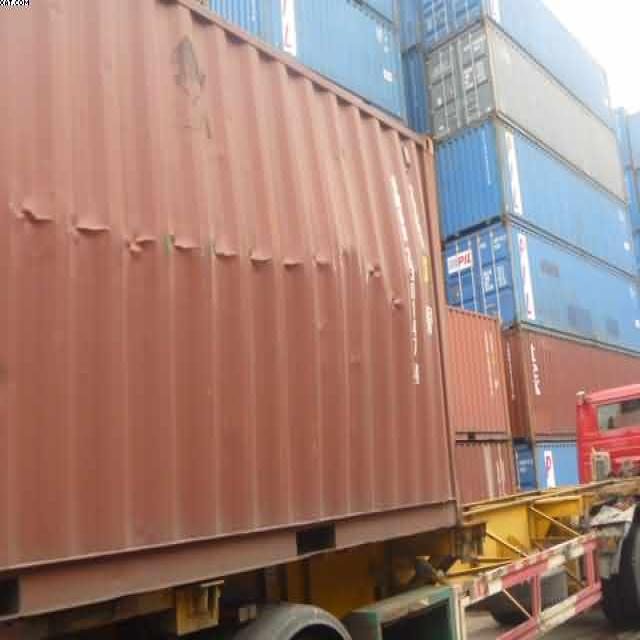dent: (25, 192, 298, 305), (316, 167, 427, 407)
